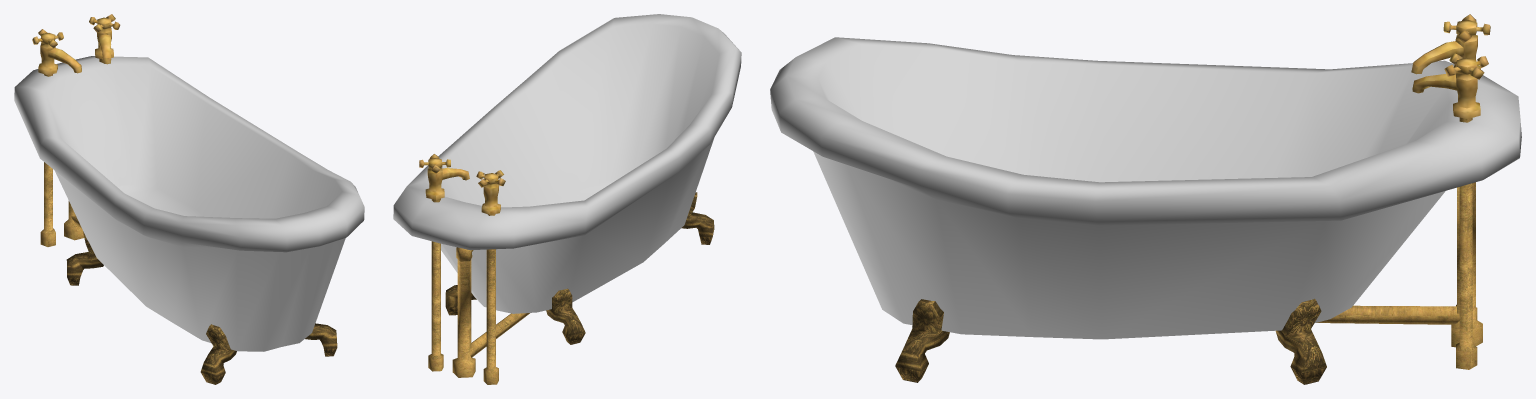
File: Bathtub.fbx
3 renders of one model, left to right at view 1: azimuth 30°, elevation 25°; view 2: azimuth 150°, elevation 25°; view 3: azimuth 270°, elevation 25°, orthographic. The views are drawn at different scales.
Visible parts, largest first — view 1: Bathtub_LOD0; view 2: Bathtub_LOD0; view 3: Bathtub_LOD0.
Part boxes in pixels (x1,y1,x2,y2): Bathtub_LOD0: (14, 14, 364, 384); Bathtub_LOD0: (393, 14, 741, 384); Bathtub_LOD0: (770, 14, 1521, 384).
Size of what is drawn, in the model's own units: 143 by 151 by 338.
